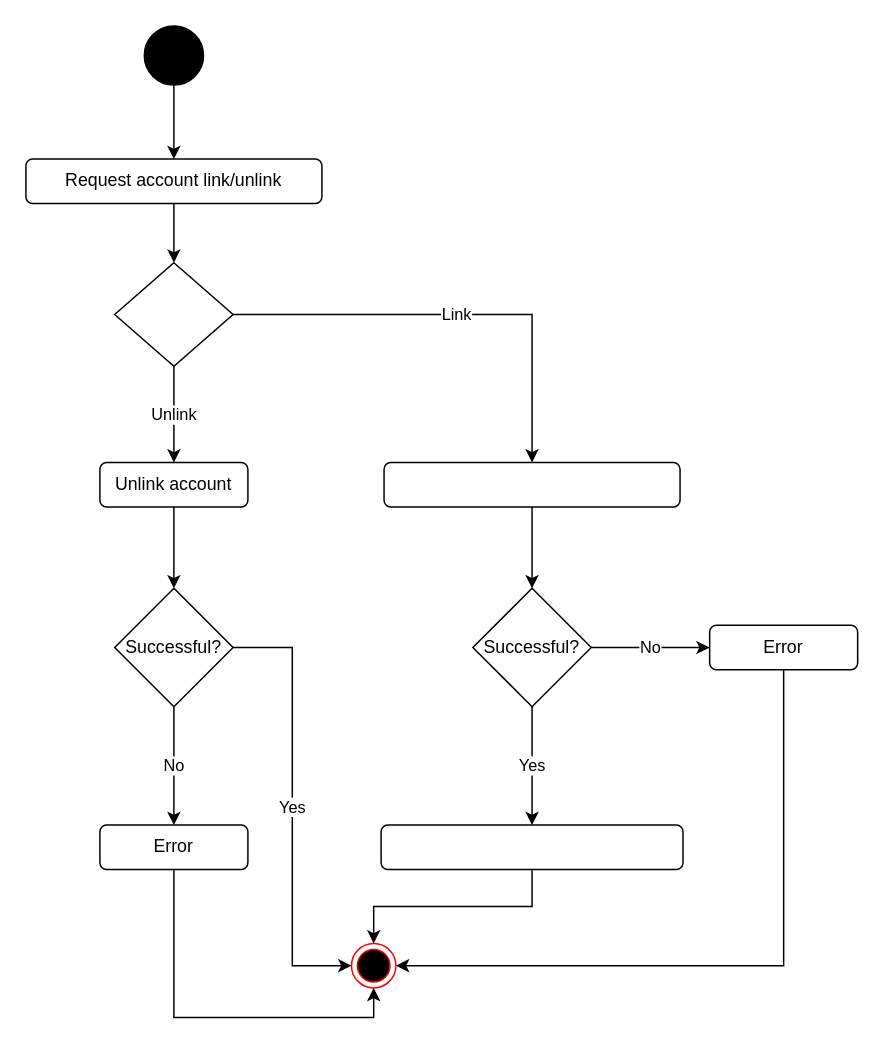
This 884x1055 diagram has some shape labels left out. Here are the shapes that lost their labels. From the top down, the centre of each, then its label:
[173,313]: Link or Unlink?
[531,484]: Authenticate request with account provider
[531,847]: Save Link
